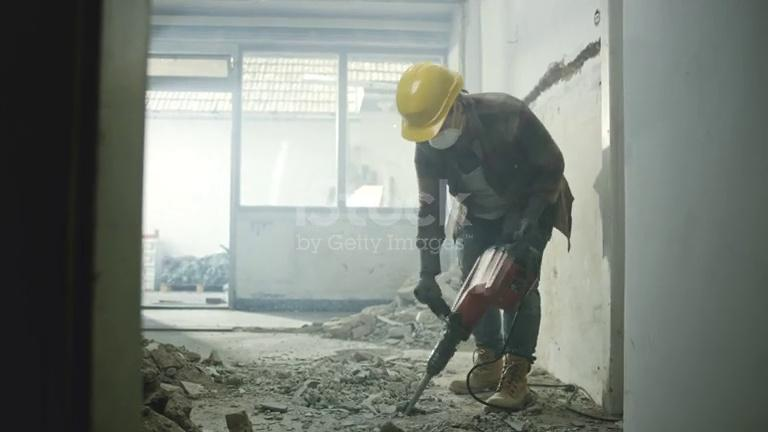helmet: (395, 63, 465, 143)
mask: (429, 120, 462, 150)
person: (395, 61, 575, 414)
